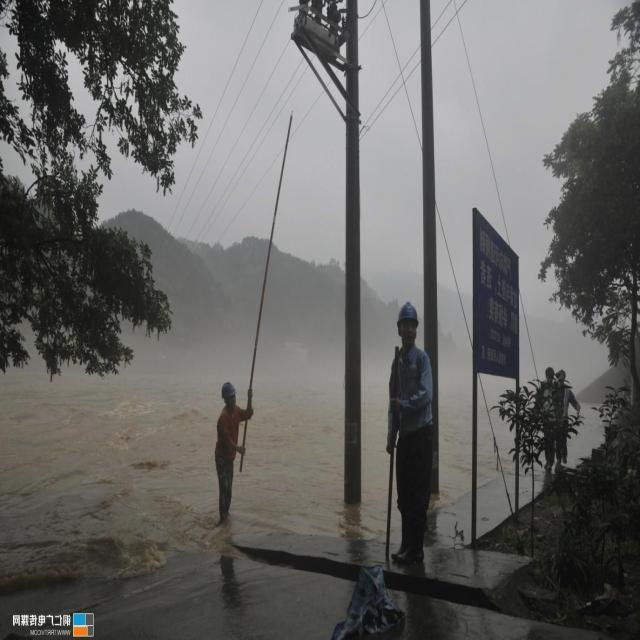Con_Casco: (395, 300, 420, 347), (223, 380, 238, 408)
